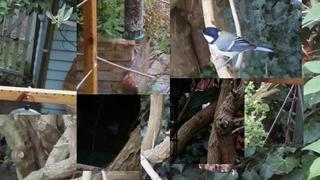great tit: (197, 27, 275, 71)
